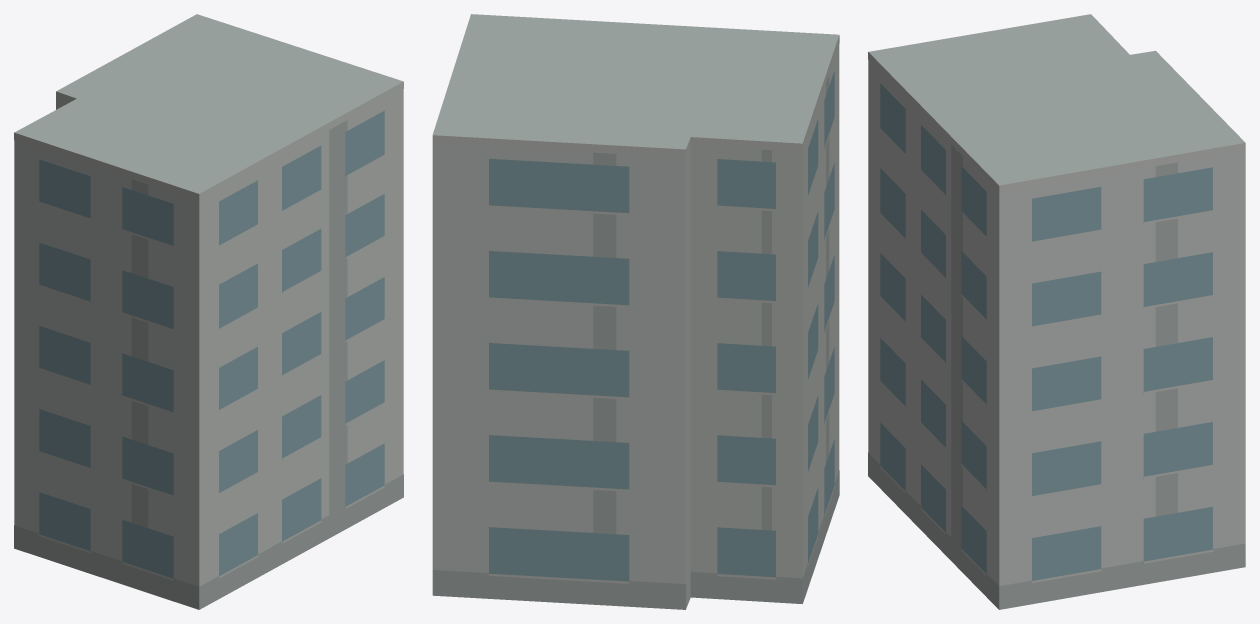
The model's file is survey-upis-32933362.glb.
3 renders of one model, left to right at view 1: azimuth 30°, elevation 25°; view 2: azimuth 150°, elevation 25°; view 3: azimuth 270°, elevation 25°, orthographic. The views are drawn at different scales.
Visible parts, largest first — view 1: survey-upis-32933362.tmp; view 2: survey-upis-32933362.tmp; view 3: survey-upis-32933362.tmp.
Boxes of the visible parts, <box> form: survey-upis-32933362.tmp: <box>14,14,403,609</box>; survey-upis-32933362.tmp: <box>432,14,839,609</box>; survey-upis-32933362.tmp: <box>868,14,1245,609</box>.
Size of the model in its own units: 11.54 by 13.3 by 10.73.
